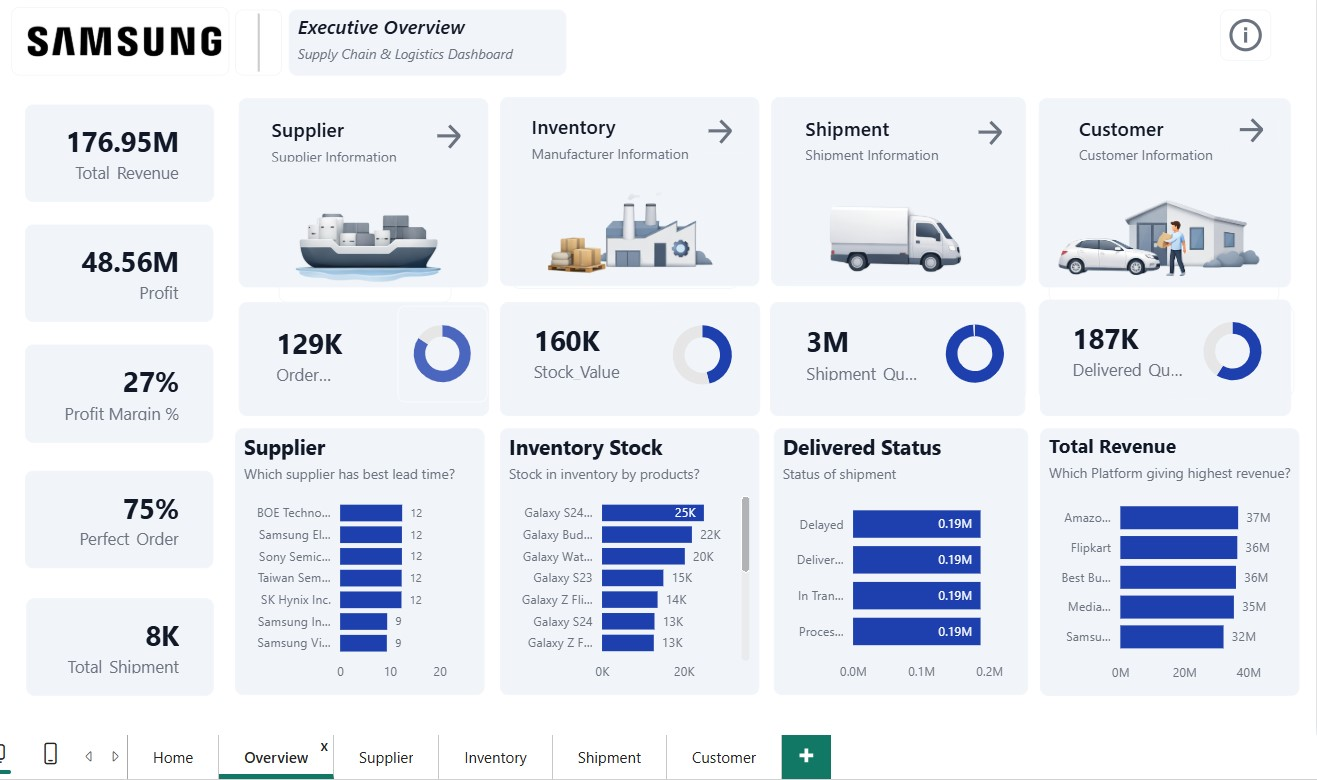

The dashboard page shown, as its layout file describes it:
{"tool":"powerbi","page":{"name":"Overview","canvas":[1280,720],"ordinal":1},"visuals":[{"type":"shape","box":[236.6,102.8,241.7,182.8],"z":0},{"type":"shape","box":[489.3,101.8,251.5,182.8],"z":1000},{"type":"shape","box":[752.2,101.8,246.6,182.8],"z":2000},{"type":"shape","box":[1010.8,102.6,244.2,182.8],"z":3000},{"type":"actionButton","box":[419.2,120,47.9,40.5],"z":4000},{"type":"actionButton","box":[682,114.8,51.5,40.5],"z":5000},{"type":"actionButton","box":[942.8,115.8,47.9,40.5],"z":6000},{"type":"actionButton","box":[1195.6,114.1,47.9,40.5],"z":7000},{"type":"textbox","title":"Supplier","box":[258.7,116.3,154.6,49.1],"z":8000},{"type":"textbox","title":"Inventory","box":[511.4,114.1,177.9,49.1],"z":9000},{"type":"textbox","title":"Shipment","box":[776,114.6,154.6,49.1],"z":10000},{"type":"textbox","title":"Customer","box":[1041.5,114.8,154.6,49.1],"z":11000},{"type":"textbox","title":"Executive Overview","box":[284.5,16.9,268.7,64.2],"z":12000},{"type":"shape","box":[232.4,16.9,46,64.2],"z":13000},{"type":"image","box":[16,14.7,211,66.3],"z":14000},{"type":"image","box":[274.6,178.9,166.9,121.5],"z":15000},{"type":"image","box":[1020.1,171,223.3,130.1],"z":16000},{"type":"image","box":[500.4,170.6,219.6,116.6],"z":17000},{"type":"image","box":[759.3,186,222.1,94.5],"z":18000},{"type":"cardVisual","fields":{"Data":["MeasuresTable.Total_Revenue"]},"box":[29.4,109.2,182.8,94.5],"z":19000},{"type":"cardVisual","fields":{"Data":["MeasuresTable.Profit"]},"box":[29.4,225.4,182.5,94.3],"z":20000},{"type":"cardVisual","fields":{"Data":["MeasuresTable.Profit Margin %"]},"box":[29.4,341.8,182.5,95.6],"z":21000},{"type":"cardVisual","fields":{"Data":["MeasuresTable.Perfect_Order"]},"box":[29.4,463.1,182.5,94.3],"z":22000},{"type":"cardVisual","fields":{"Data":["MeasuresTable.Total_Shipment"]},"box":[30.6,586.8,181.3,94.3],"z":23000},{"type":"shape","box":[236,300.2,242.1,110.2],"z":24000},{"type":"shape","box":[489,300.2,251.8,110.2],"z":25000},{"type":"shape","box":[750.5,300.2,246.9,110.2],"z":26000},{"type":"shape","box":[1012,297.8,243.3,112.6],"z":27000},{"type":"cardVisual","fields":{"Data":["MeasuresTable.Order_QTY"]},"box":[239.3,304.3,166.9,95.7],"z":28000},{"type":"cardVisual","fields":{"Data":["MeasuresTable.Stock_Value"]},"box":[489.6,301.8,168.1,95.7],"z":29000},{"type":"cardVisual","fields":{"Data":["Measure.Total_Shipment_Quantity"]},"box":[753.4,303.1,176.7,95.7],"z":30000},{"type":"cardVisual","fields":{"Data":["Measure.Total_Delivered_Quantity"]},"box":[1011,299.4,175.5,95.7],"z":31000},{"type":"clusteredBarChart","title":"Supplier","fields":{"Y":["Measure.Avg_Lead_Time"],"Category":["dim_supplier.supplier_name"]},"box":[232.8,422.7,241.3,258.5],"z":32000},{"type":"clusteredBarChart","title":"Inventory Stock","fields":{"Y":["Measure.Stock_Value"],"Category":["dim_product.product_name"]},"box":[488.8,422.7,251.1,258.5],"z":33000},{"type":"clusteredBarChart","title":"Delivered Status","fields":{"Y":["Measure.Total_Delivered_Quantity"],"Category":["fact_shipment.status"]},"box":[754.7,422.7,246.2,258.5],"z":34000},{"type":"clusteredBarChart","title":"Total Revenue","fields":{"Y":["Measure.Total_Revenue"],"Category":["dim_customer.customer_name"]},"box":[1012.3,422.1,251.5,258.9],"z":35000},{"type":"donutChart","fields":{"Y":["Measure.Order_QTY","Measure.Defect_Rate"]},"box":[390.2,303.6,87.1,93.3],"z":36000},{"type":"donutChart","fields":{"Y":["Measure.Stock_Value","Measure.Total_Delivered_Quantity"]},"box":[640.5,306,89.6,90.8],"z":37000},{"type":"donutChart","fields":{"Y":["Measure.Total_Shipment_Quantity","Measure.Defect_Rate"]},"box":[899.4,306,99.4,88.3],"z":38000},{"type":"donutChart","fields":{"Y":["Measure.Total_Delivered_Quantity","Measure.Order_QTY"]},"box":[1138.7,303.6,119,88.3],"z":39000},{"type":"actionButton","box":[1186.3,16.9,49.6,49.6],"z":39001}]}

Visuals, with their boxes on the page's 1280x720 design canvas (x1, y1, x2, y2). These are canvas units, not pixel positions in the 1317x780 screenshot, which may show the page scaled, cropped or inside an application window:
shape: [x1=237, y1=103, x2=478, y2=286]
shape: [x1=489, y1=102, x2=741, y2=285]
shape: [x1=752, y1=102, x2=999, y2=285]
shape: [x1=1011, y1=103, x2=1255, y2=285]
actionButton: [x1=419, y1=120, x2=467, y2=160]
actionButton: [x1=682, y1=115, x2=734, y2=155]
actionButton: [x1=943, y1=116, x2=991, y2=156]
actionButton: [x1=1196, y1=114, x2=1244, y2=155]
"Supplier" textbox: [x1=259, y1=116, x2=413, y2=165]
"Inventory" textbox: [x1=511, y1=114, x2=689, y2=163]
"Shipment" textbox: [x1=776, y1=115, x2=931, y2=164]
"Customer" textbox: [x1=1042, y1=115, x2=1196, y2=164]
"Executive Overview" textbox: [x1=284, y1=17, x2=553, y2=81]
shape: [x1=232, y1=17, x2=278, y2=81]
image: [x1=16, y1=15, x2=227, y2=81]
image: [x1=275, y1=179, x2=442, y2=300]
image: [x1=1020, y1=171, x2=1243, y2=301]
image: [x1=500, y1=171, x2=720, y2=287]
image: [x1=759, y1=186, x2=981, y2=280]
cardVisual - MeasuresTable.Total_Revenue: [x1=29, y1=109, x2=212, y2=204]
cardVisual - MeasuresTable.Profit: [x1=29, y1=225, x2=212, y2=320]
cardVisual - MeasuresTable.Profit Margin %: [x1=29, y1=342, x2=212, y2=437]
cardVisual - MeasuresTable.Perfect_Order: [x1=29, y1=463, x2=212, y2=557]
cardVisual - MeasuresTable.Total_Shipment: [x1=31, y1=587, x2=212, y2=681]
shape: [x1=236, y1=300, x2=478, y2=410]
shape: [x1=489, y1=300, x2=741, y2=410]
shape: [x1=750, y1=300, x2=997, y2=410]
shape: [x1=1012, y1=298, x2=1255, y2=410]
cardVisual - MeasuresTable.Order_QTY: [x1=239, y1=304, x2=406, y2=400]
cardVisual - MeasuresTable.Stock_Value: [x1=490, y1=302, x2=658, y2=398]
cardVisual - Measure.Total_Shipment_Quantity: [x1=753, y1=303, x2=930, y2=399]
cardVisual - Measure.Total_Delivered_Quantity: [x1=1011, y1=299, x2=1186, y2=395]
"Supplier" clusteredBarChart: [x1=233, y1=423, x2=474, y2=681]
"Inventory Stock" clusteredBarChart: [x1=489, y1=423, x2=740, y2=681]
"Delivered Status" clusteredBarChart: [x1=755, y1=423, x2=1001, y2=681]
"Total Revenue" clusteredBarChart: [x1=1012, y1=422, x2=1264, y2=681]
donutChart - Measure.Order_QTY x Measure.Defect_Rate: [x1=390, y1=304, x2=477, y2=397]
donutChart - Measure.Stock_Value x Measure.Total_Delivered_Quantity: [x1=640, y1=306, x2=730, y2=397]
donutChart - Measure.Total_Shipment_Quantity x Measure.Defect_Rate: [x1=899, y1=306, x2=999, y2=394]
donutChart - Measure.Total_Delivered_Quantity x Measure.Order_QTY: [x1=1139, y1=304, x2=1258, y2=392]
actionButton: [x1=1186, y1=17, x2=1236, y2=66]
